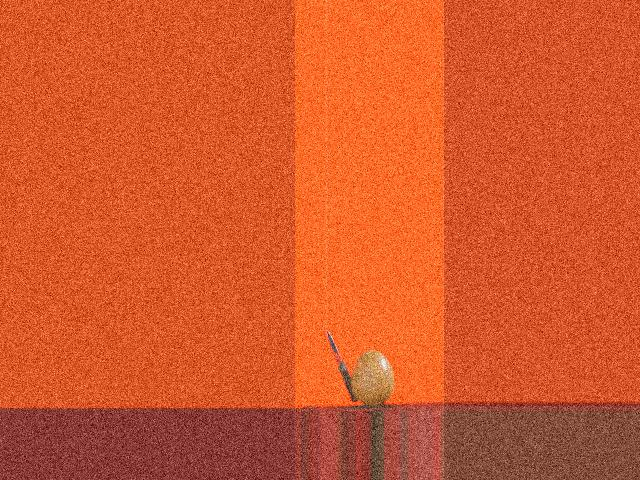egg: (351, 351, 393, 405)
